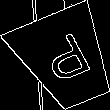P_SE: (35, 29, 97, 90)
